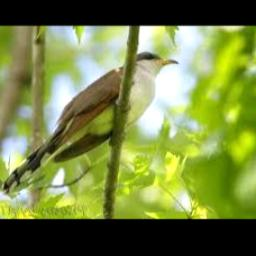Cuckoo: (2, 51, 180, 192)
